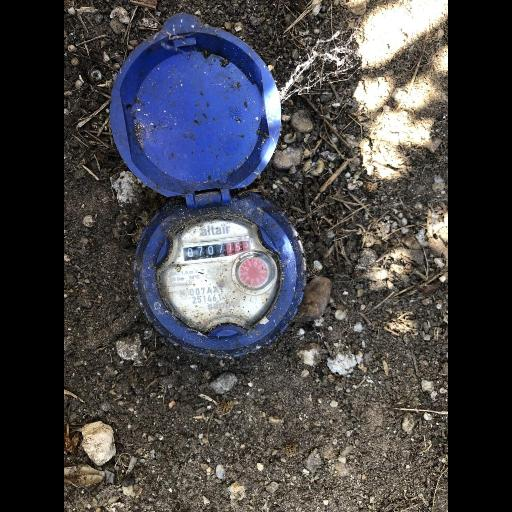0: (183, 245, 196, 261), (204, 243, 216, 259)
3: (241, 241, 249, 252)
5: (234, 240, 243, 254)
7: (214, 242, 226, 258), (194, 245, 206, 260), (225, 242, 235, 257)
border_water_meter_number: (181, 237, 254, 265)
